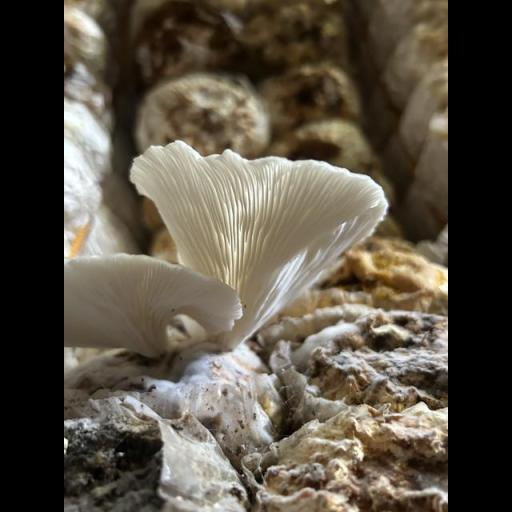White Oyster Mushroom: (63, 138, 393, 381)
